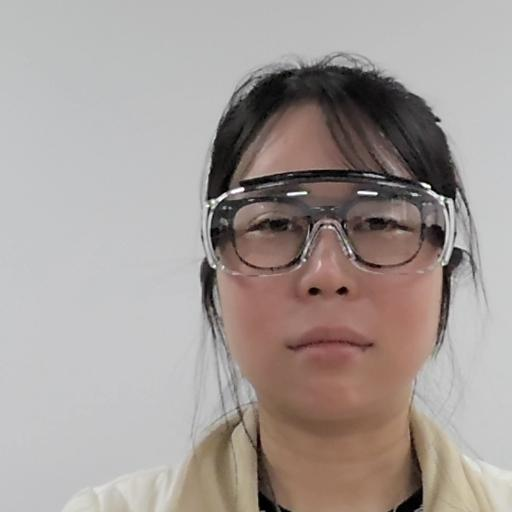glasses: (196, 61, 470, 420)
